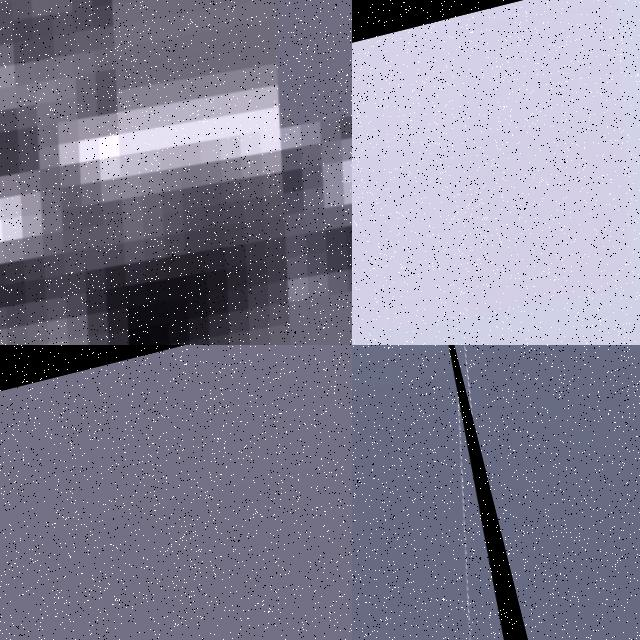drone: (0, 0, 352, 345), (352, 0, 640, 345), (352, 345, 538, 640)
